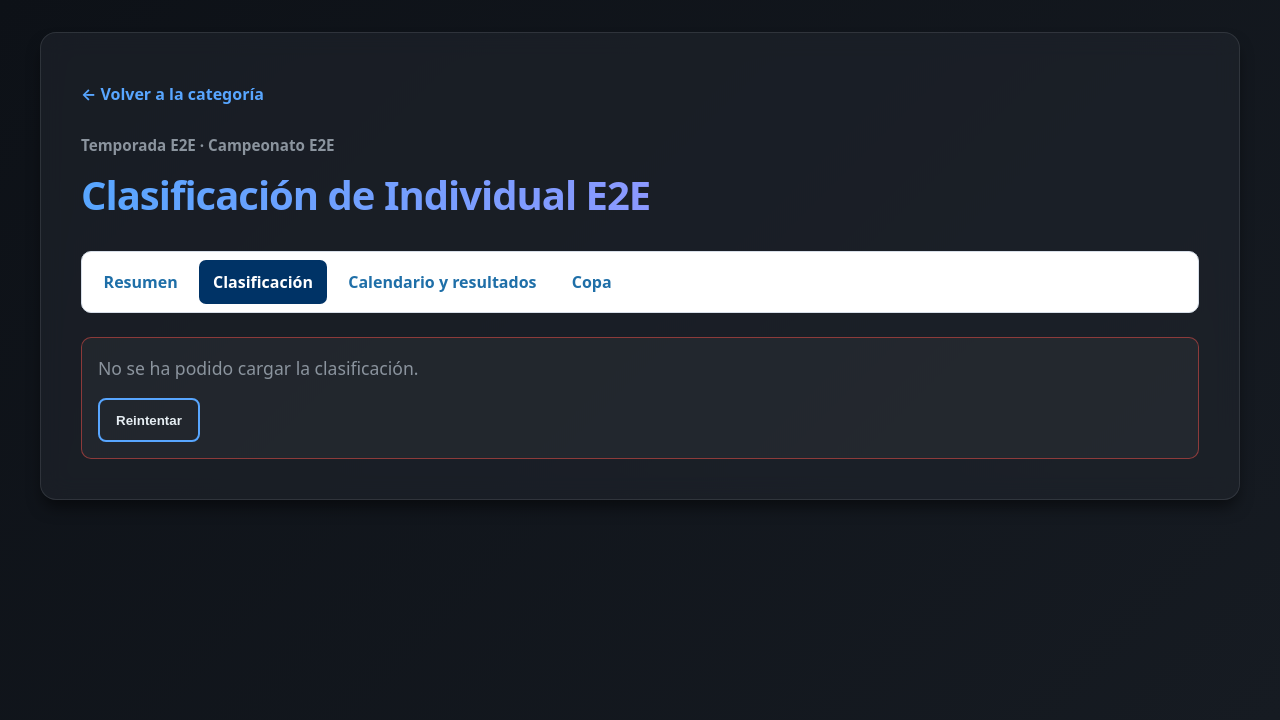
Test: Standings › retries a failed classification request
The image size is (1280, 720).
Click the button "Reintentar" at (149, 420), box [98,398,200,442]
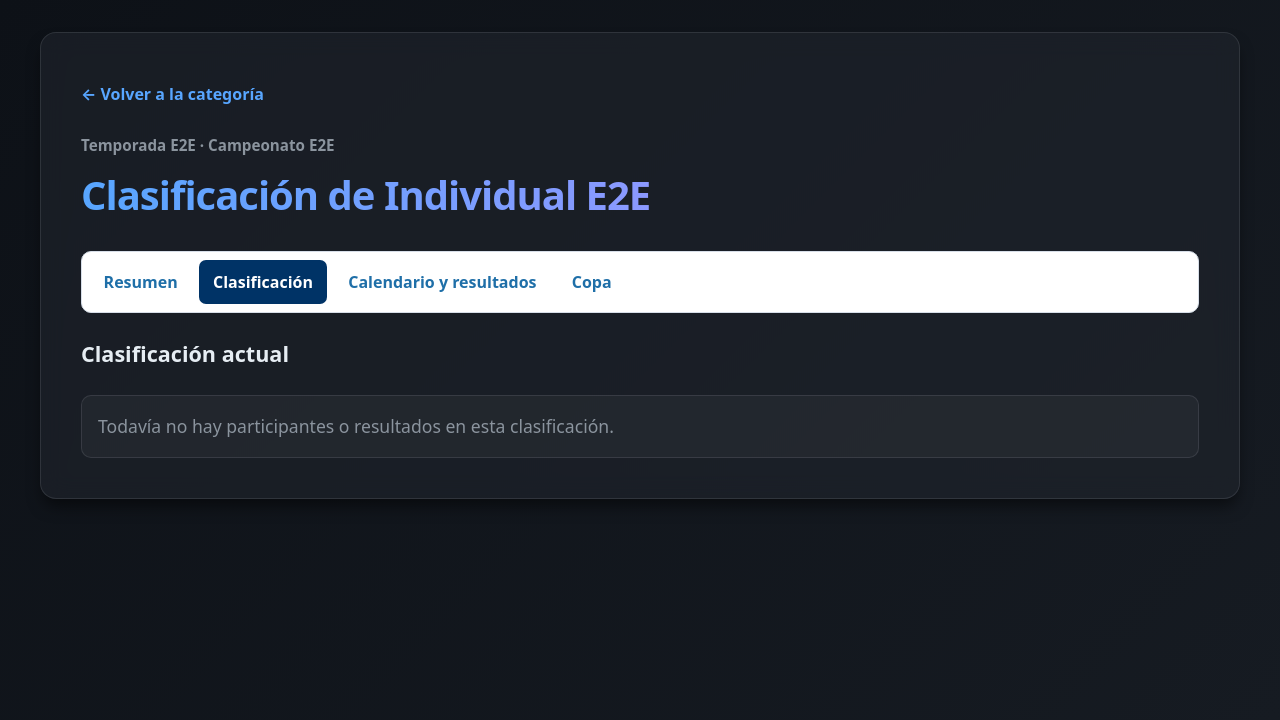
Expected: the text "Todavía no hay participantes o resultados en esta clasificación." is shown, [81,396,1199,458]
